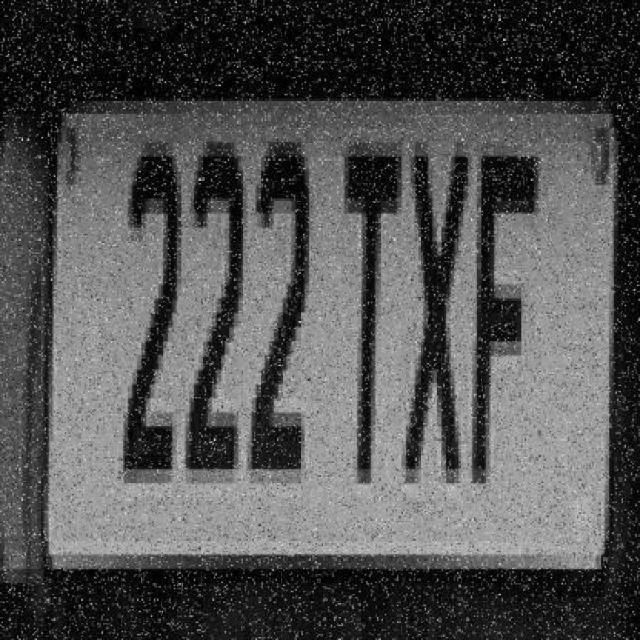licenseplate: (44, 71, 621, 612)
